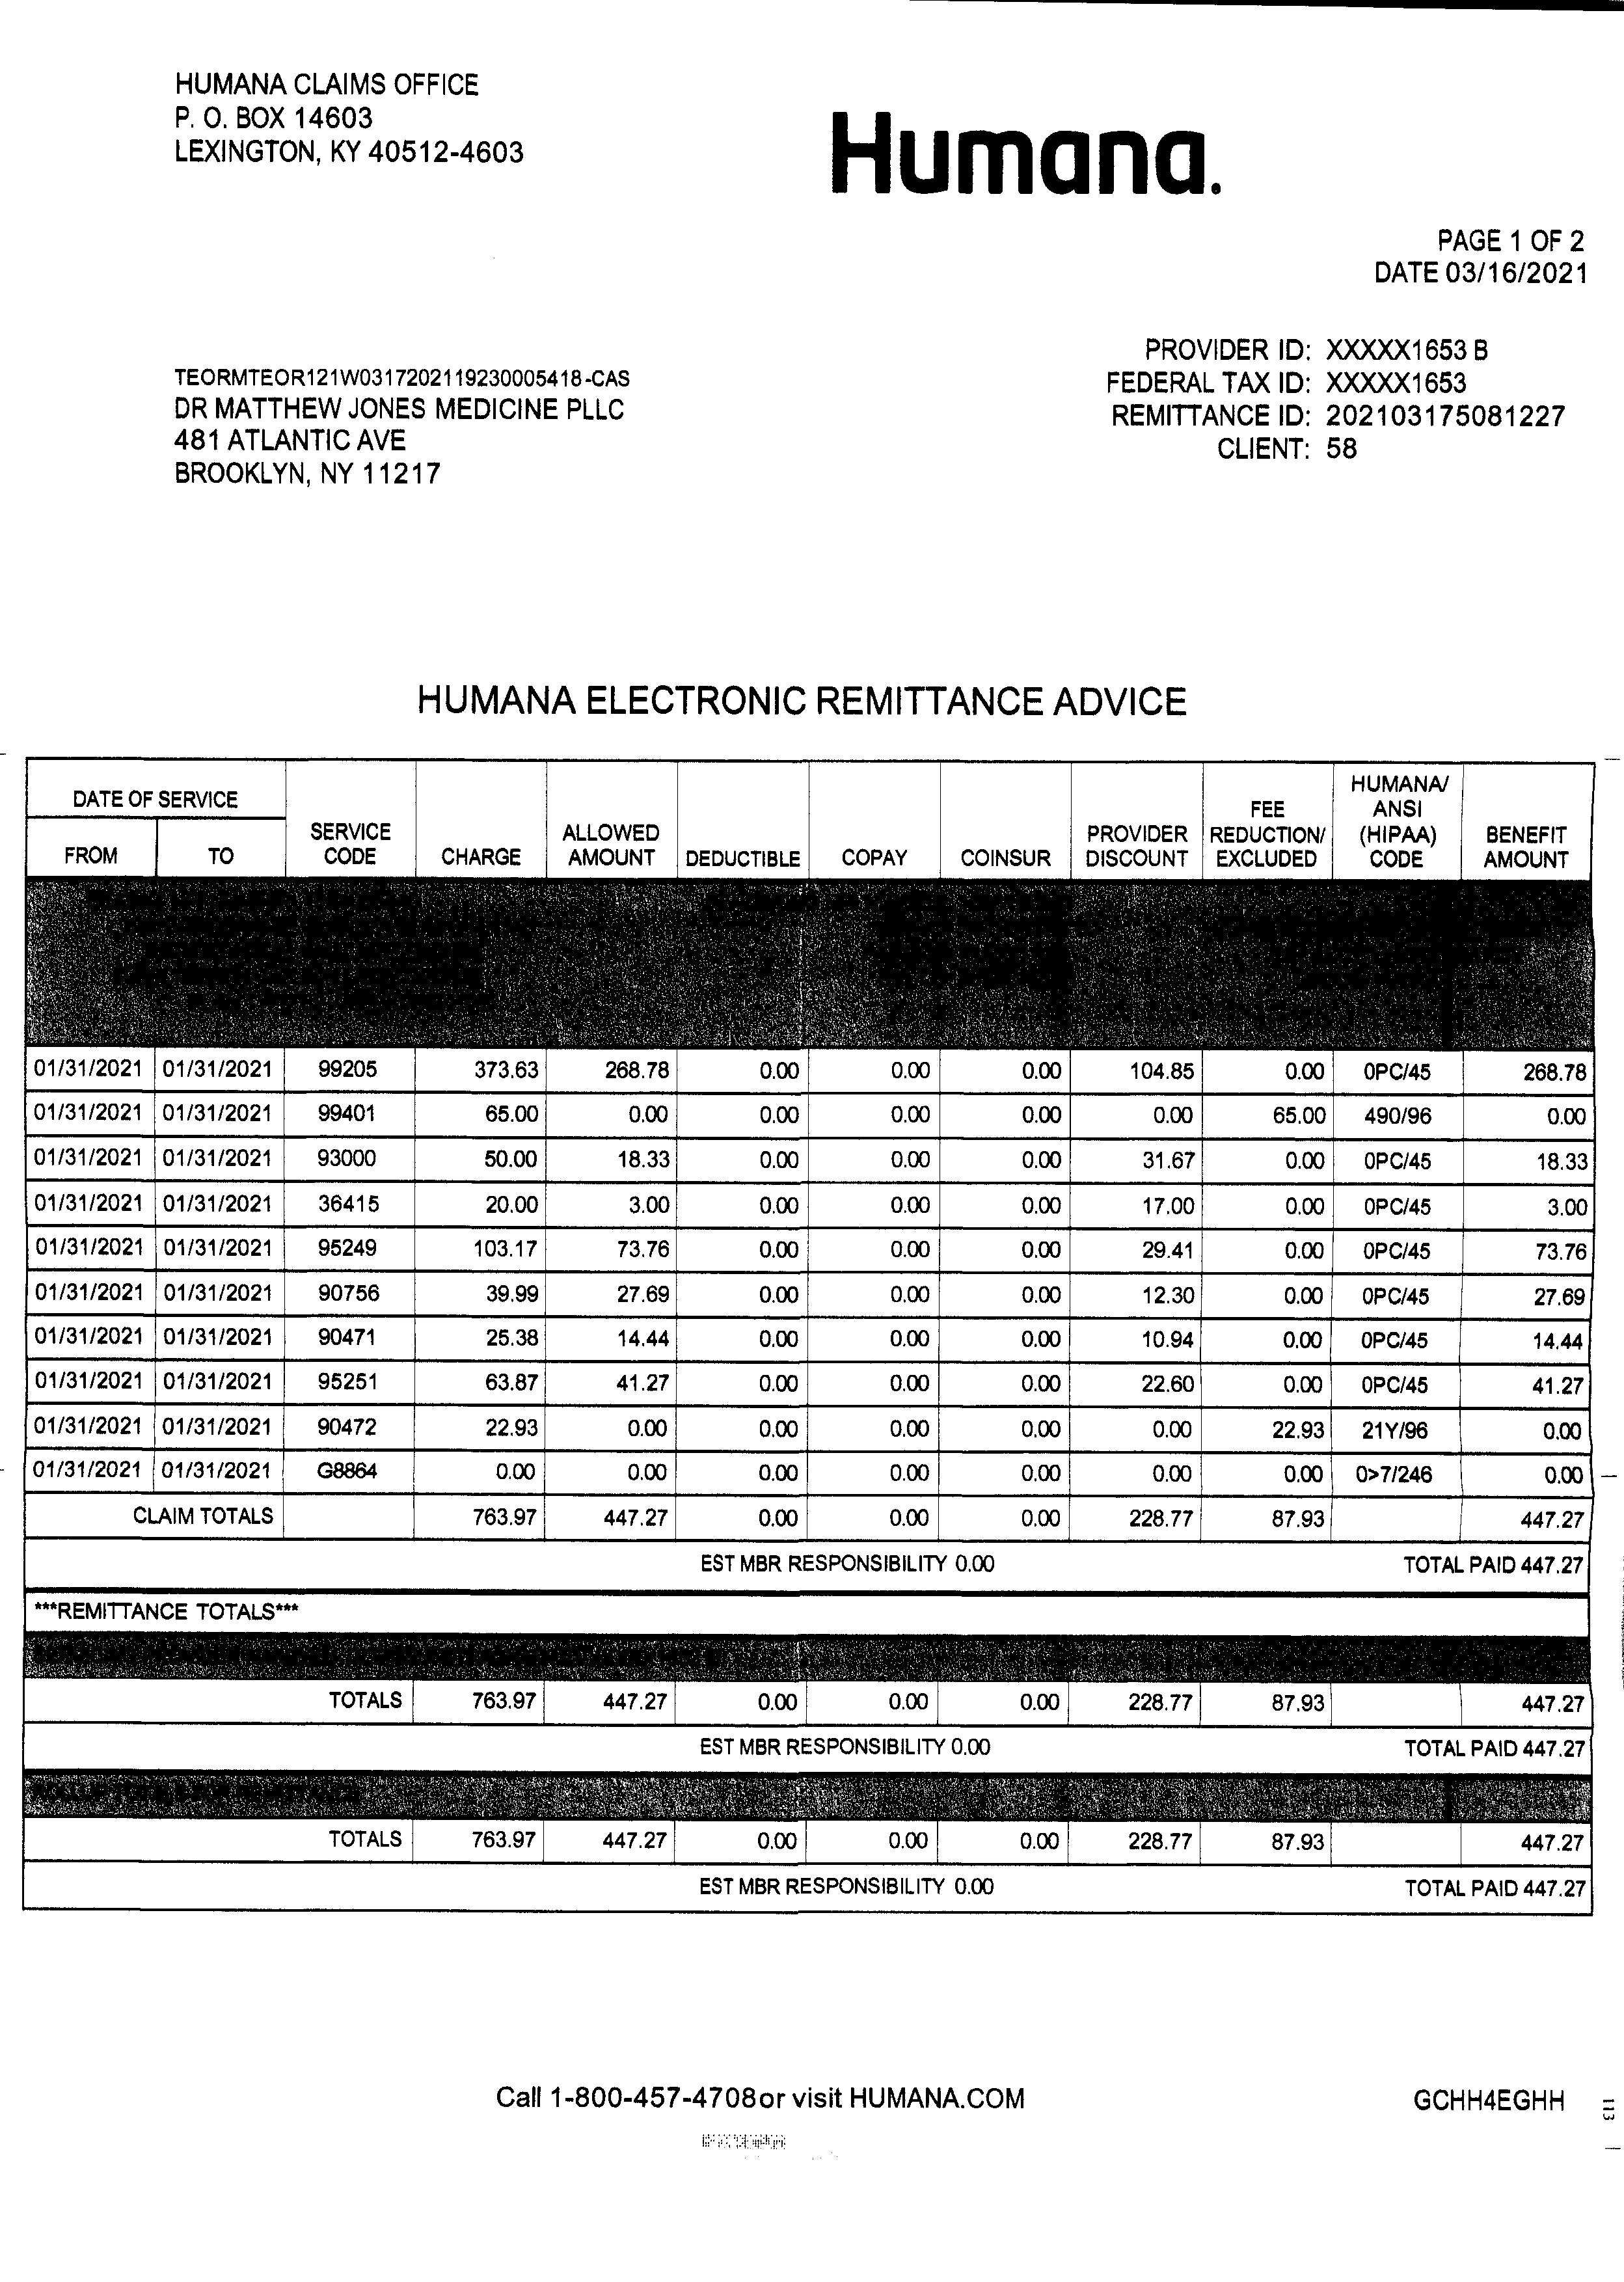data: (1083, 320, 1578, 489), (149, 338, 650, 503), (155, 53, 536, 183)
table: (5, 747, 1596, 1586)
